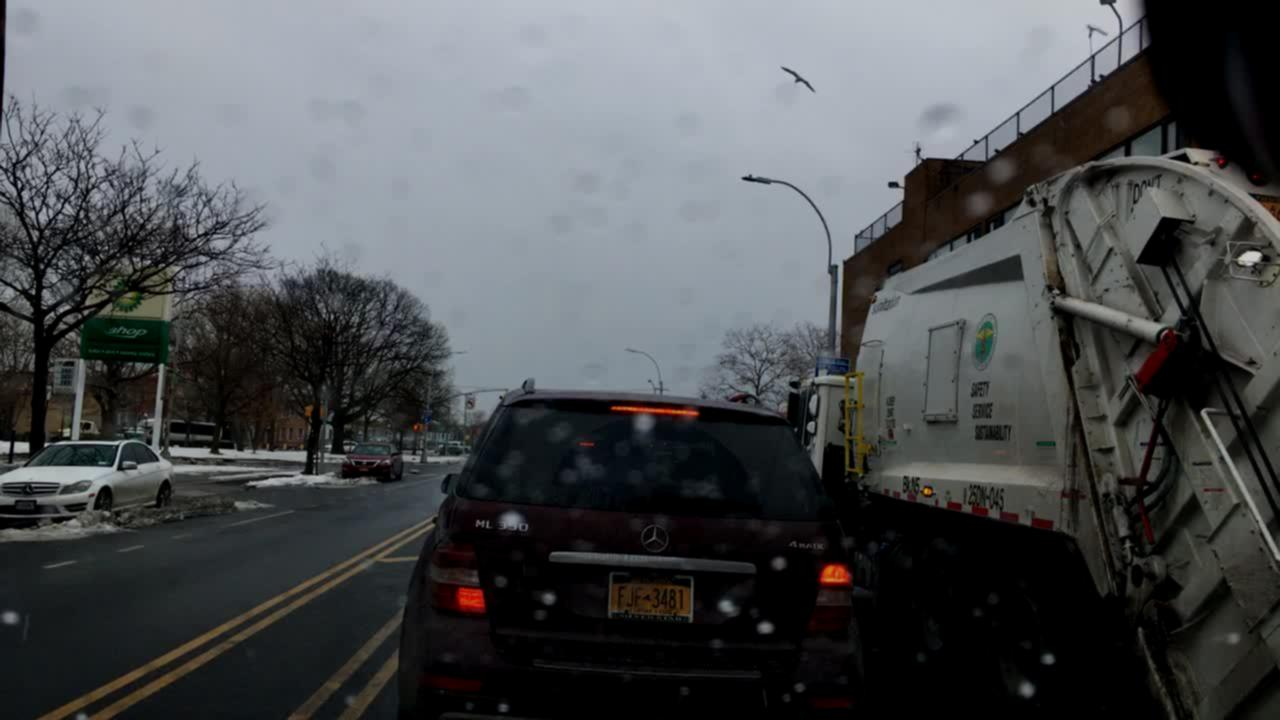Mercedes: (632, 515, 677, 567)
